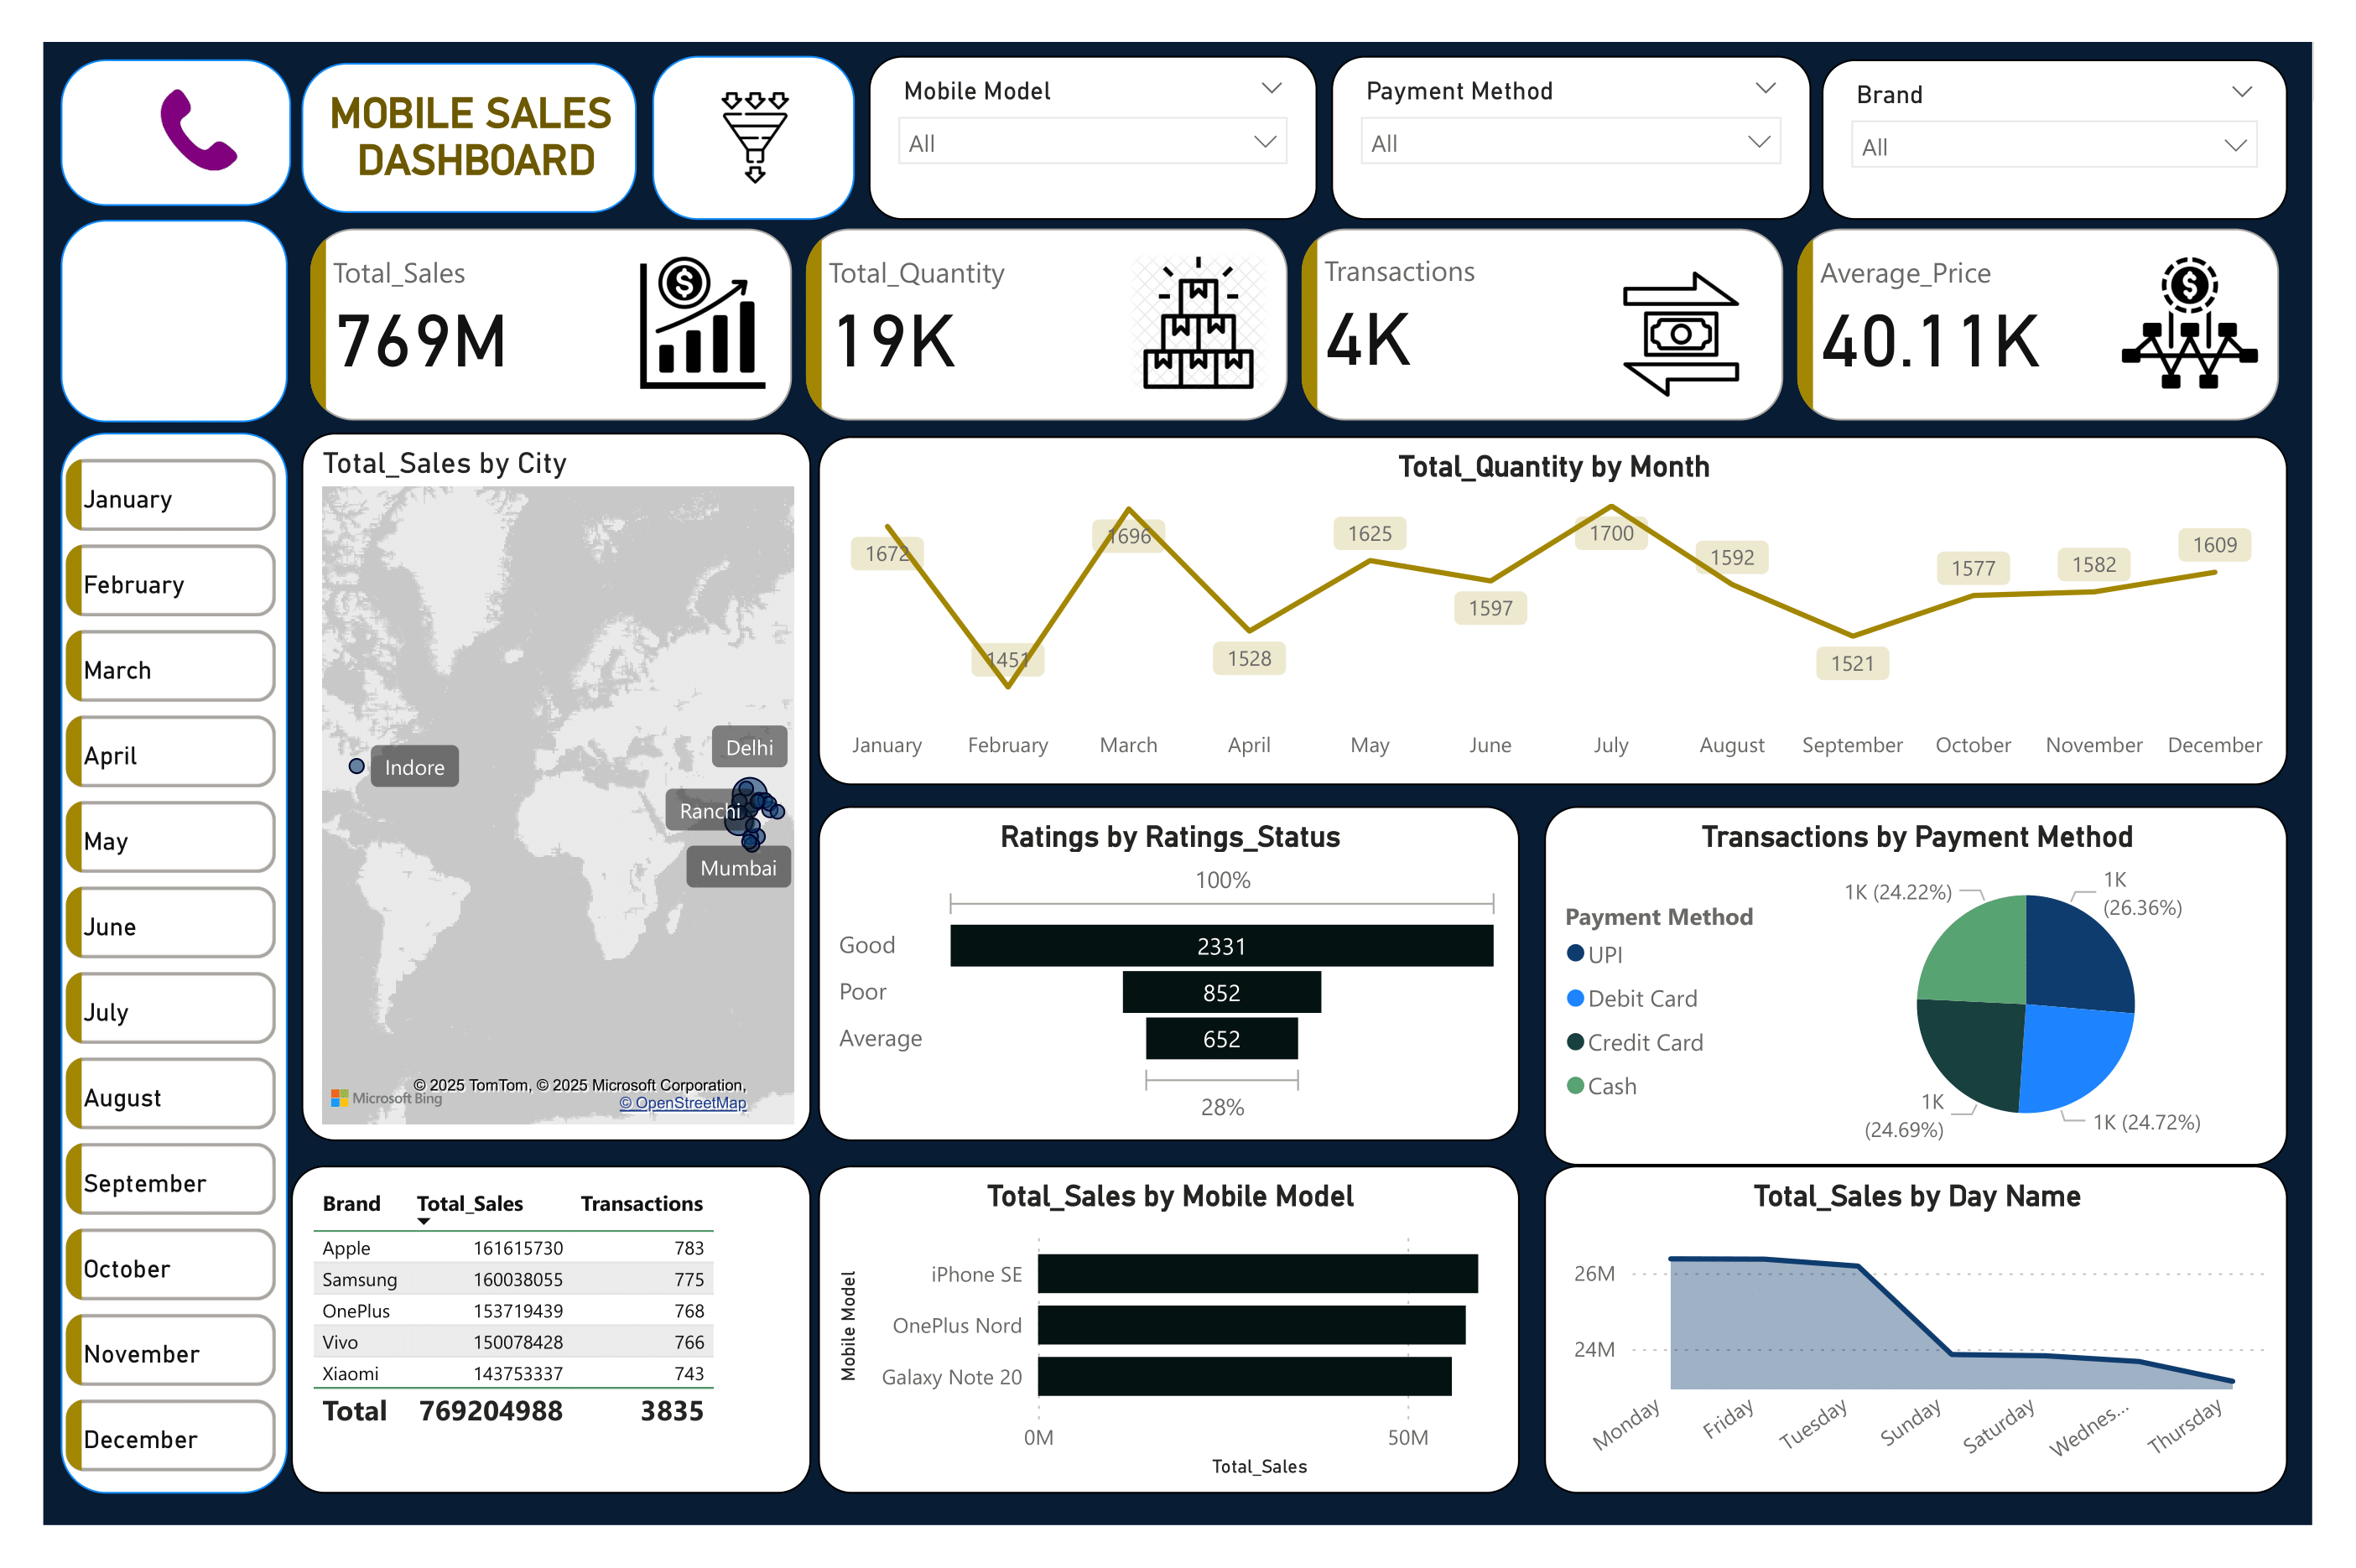

This screenshot's page, from the dashboard's own definition file:
{"tool":"powerbi","page":{"name":"Page 1","canvas":[1300,850],"ordinal":0},"visuals":[{"type":"shape","box":[148,12,192,86],"z":0},{"type":"shape","box":[10,10,132,84],"z":1000},{"type":"shape","box":[10,102,130,116],"z":2000},{"type":"shape","box":[10,224,130,608],"z":3000},{"type":"advancedSlicerVisual","fields":{"Values":["Custom_Calendar.Date.Variation.Date Hierarchy.Month"]},"box":[8,234,130,598],"z":4000},{"type":"image","box":[53,22.2,73.5,56.4],"z":5000},{"type":"cardVisual","fields":{"Data":["Sales_Data.Total_SalesSumx","Sales_Data.Total_Quantity","Sales_Data.Transactions","Sales_Data.Average_Price"]},"box":[148.3,101.7,1138.3,120],"z":6000},{"type":"slicer","fields":{"Values":["Sales_Data.Mobile Model"]},"box":[473,7.9,257.1,93.7],"z":7000},{"type":"slicer","fields":{"Values":["Sales_Data.Payment Method"]},"box":[738.1,7.9,274.6,93.7],"z":8000},{"type":"slicer","fields":{"Values":["Sales_Data.Brand"]},"box":[1019,9.5,266.7,92.1],"z":9000},{"type":"shape","box":[349.2,7.9,115.9,93.7],"z":10000},{"type":"image","box":[358.7,23.8,98.4,61.9],"z":11000},{"type":"textbox","box":[156,22,184,112],"z":12000},{"type":"lineChart","fields":{"Y":["Sales_Data.Total_Quantity"],"Category":["Custom_Calendar.Date.Variation.Date Hierarchy.Month"]},"box":[444,226,842,200],"z":13500},{"type":"map","fields":{"Category":["Sales_Data.City"],"Size":["Sales_Data.Total_SalesSumx"]},"box":[148,224,292,406],"z":14000},{"type":"funnel","title":"Ratings by Ratings_Status","fields":{"Y":["CountNonNull(Sales_Data.Customer Ratings)"],"Category":["Sales_Data.Ratings_Status"]},"box":[444,438,402,192],"z":16000},{"type":"pieChart","fields":{"Y":["Sales_Data.Transactions"],"Category":["Sales_Data.Payment Method"]},"box":[860,438,426,206],"z":17000},{"type":"clusteredBarChart","fields":{"Y":["Sales_Data.Total_Sales"],"Category":["Sales_Data.Mobile Model"]},"box":[444,644,402,188],"z":18000},{"type":"areaChart","fields":{"Y":["Sales_Data.Total_Sales"],"Category":["Custom_Calendar.Day Name"]},"box":[860,644,426,188],"z":19000},{"type":"tableEx","fields":{"Values":["Sales_Data.Brand","Sales_Data.Total_Sales","Sales_Data.Transactions"]},"box":[142,644,298,188],"z":20000}]}

Visuals, with their boxes in screenshot pixels (x1, y1, x2, y2):
shape: 300, 63, 637, 213
shape: 60, 60, 290, 206
shape: 60, 220, 287, 423
shape: 60, 433, 287, 1495
advancedSlicerVisual - Custom_Calendar.Date.Variation.Date Hierarchy.Month: 56, 450, 283, 1495
image: 134, 80, 263, 179
cardVisual - Sales_Data.Total_SalesSumx x Sales_Data.Total_Quantity: 301, 220, 2291, 429
slicer - Sales_Data.Mobile Model: 869, 55, 1318, 220
slicer - Sales_Data.Payment Method: 1332, 55, 1812, 220
slicer - Sales_Data.Brand: 1823, 59, 2289, 220
shape: 653, 55, 855, 220
image: 668, 84, 841, 191
textbox: 315, 80, 637, 276
lineChart - Sales_Data.Total_Quantity x Custom_Calendar.Date.Variation.Date Hierarchy.Month: 818, 437, 2290, 786
map - Sales_Data.City x Sales_Data.Total_SalesSumx: 300, 433, 811, 1142
"Ratings by Ratings_Status" funnel: 818, 807, 1521, 1142
pieChart - Sales_Data.Transactions x Sales_Data.Payment Method: 1545, 807, 2290, 1166
clusteredBarChart - Sales_Data.Total_Sales x Sales_Data.Mobile Model: 818, 1166, 1521, 1495
areaChart - Sales_Data.Total_Sales x Custom_Calendar.Day Name: 1545, 1166, 2290, 1495
tableEx - Sales_Data.Brand x Sales_Data.Total_Sales: 290, 1166, 811, 1495
